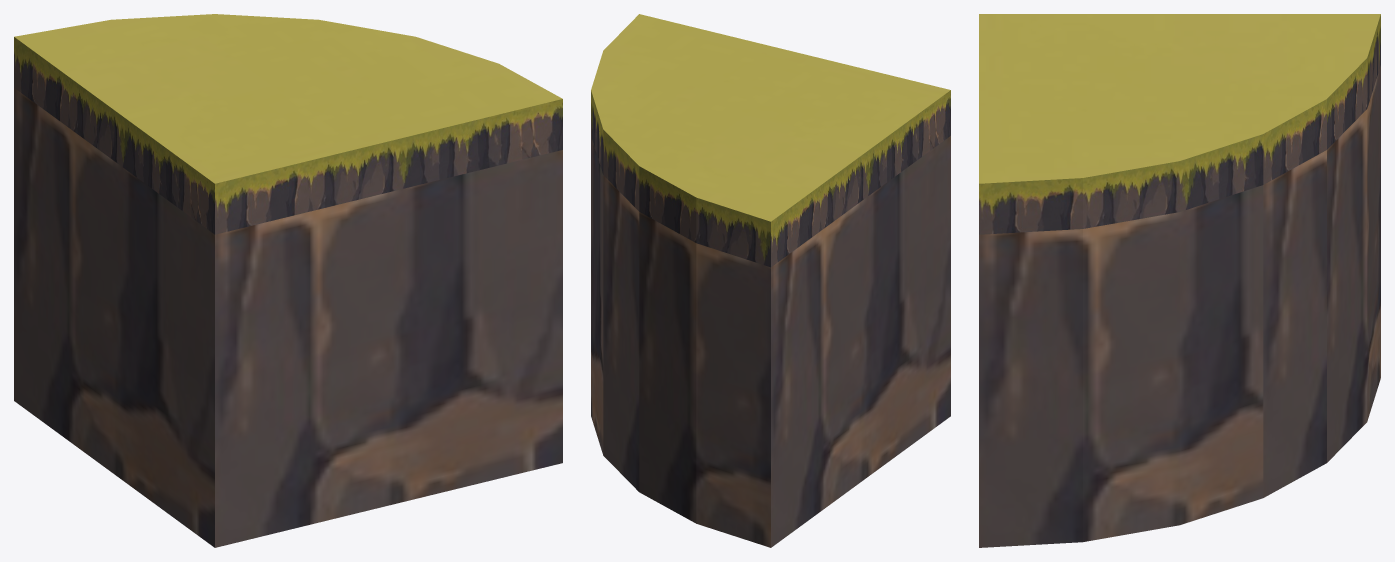
Rendered from SM_RC_Terrain_IslandEdge_Rounded_8m.gltf.
The picture shows the model from 3 angles, left to right: view 1: azimuth 30°, elevation 25°; view 2: azimuth 150°, elevation 25°; view 3: azimuth 270°, elevation 25°; orthographic projection. The views are drawn at different scales.
Parts seen in each view (by area): view 1: SM_RC_Terrain_IslandEdge_Rounded_8m; view 2: SM_RC_Terrain_IslandEdge_Rounded_8m; view 3: SM_RC_Terrain_IslandEdge_Rounded_8m.
Boxes of the visible parts, x1,y1,x2,y2 form: SM_RC_Terrain_IslandEdge_Rounded_8m: [14, 14, 562, 547]; SM_RC_Terrain_IslandEdge_Rounded_8m: [591, 14, 950, 547]; SM_RC_Terrain_IslandEdge_Rounded_8m: [979, 14, 1380, 547].
Bounding box in the file's own units: 8 × 8 × 8.
Materials: 1 (1 with a texture image).
